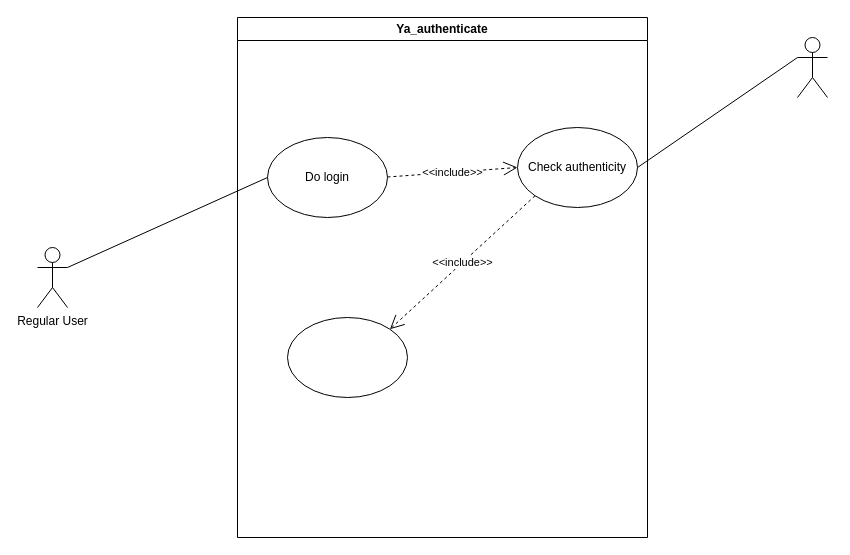
The diagram is 850 pixels wide and 555 high, and some of its shapes have lost their labels. The shapes that lost their labels are listed below. From the top down, each one's centre as x and y in pixels, then its label:
the point at 812,67: System
the point at 347,357: Generate token
